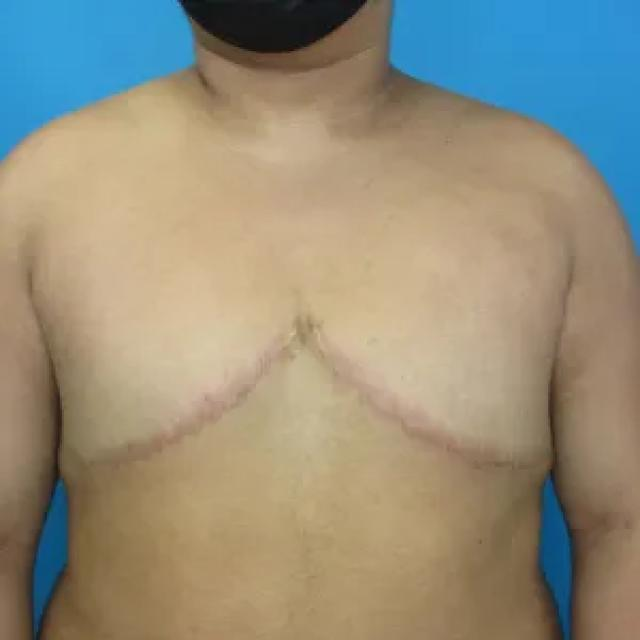Seno herido: (311, 296, 566, 494), (38, 298, 299, 489)
